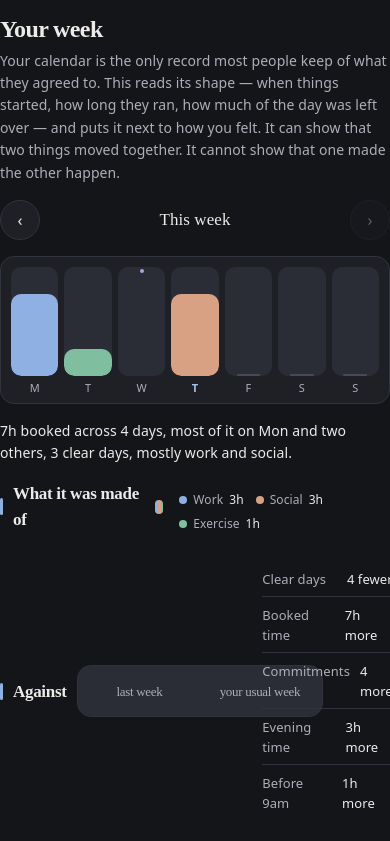
it: what titles do and do not reach the screen › lets a category be corrected, permanently
This screenshot has width=390, height=841.
Later steps or results of the test are not shown.
Click the button named "Mon: 3h".
click(35, 330)  # box x1=11 y1=267 x2=58 y2=393
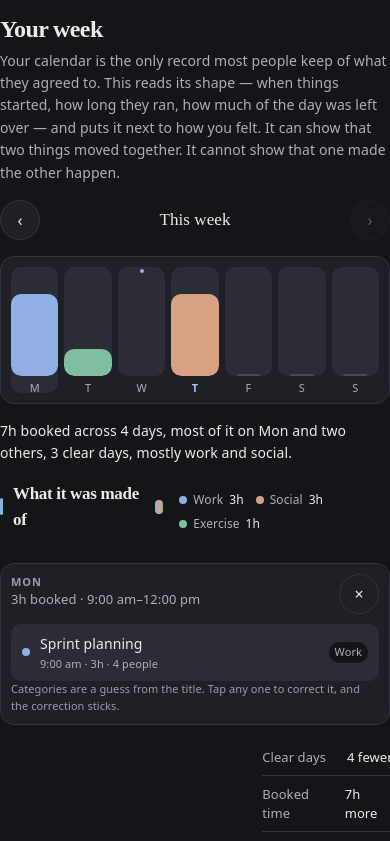
Click the text "Sprint planning".
click(91, 643)  # box x1=40 y1=634 x2=142 y2=653
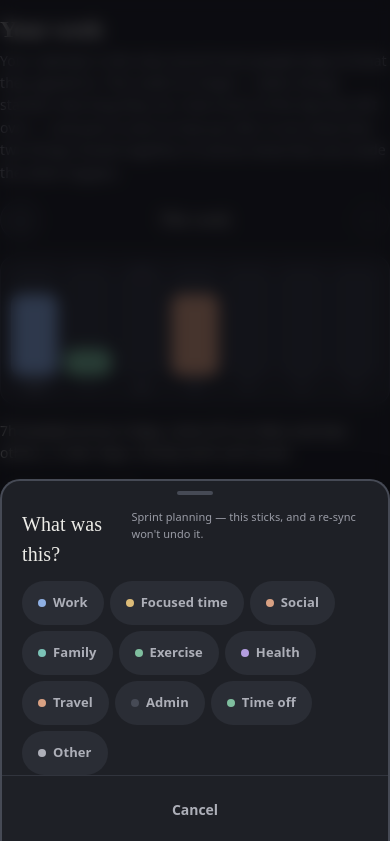
Result: the text "Sprint planning — this sticks, and a re-sync won't undo it." is shown at x1=131 y1=509 x2=368 y2=542
